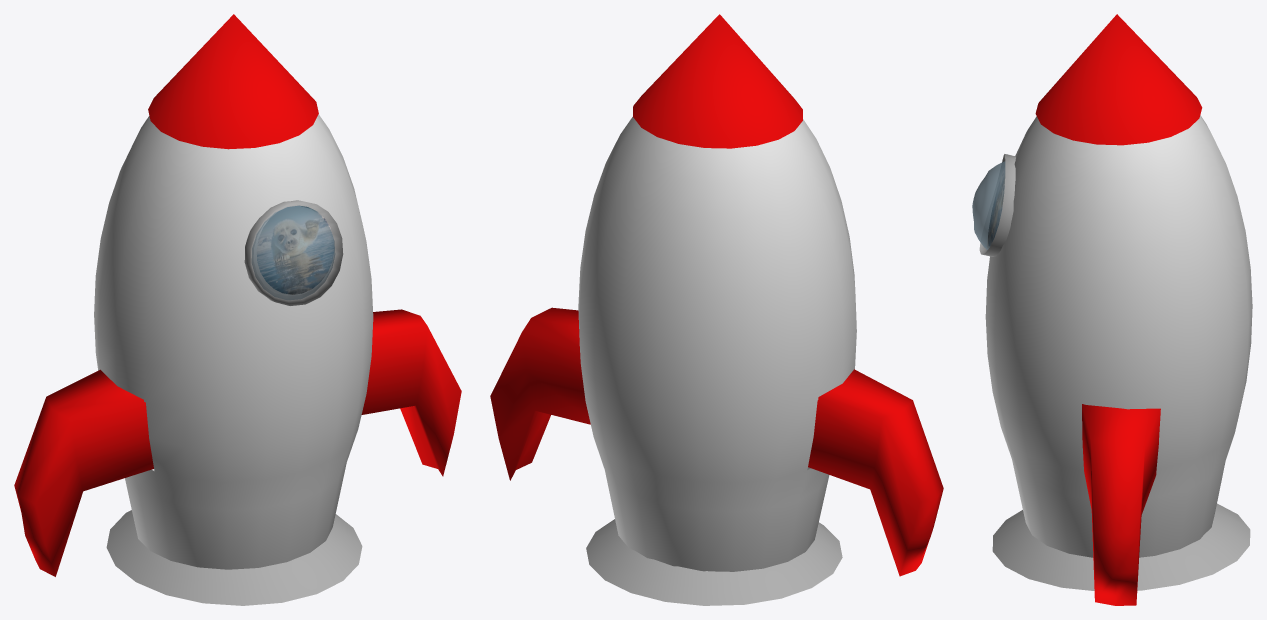
Rendered from RocketShip.fbx.
The picture shows the model from 3 angles, left to right: view 1: azimuth 30°, elevation 25°; view 2: azimuth 150°, elevation 25°; view 3: azimuth 270°, elevation 25°; orthographic projection. The views are drawn at different scales.
Visible parts, largest first — view 1: polySurface1, polySurface6, pCone1, pCylinder1, polySurface3, pSphere2, pDisc1, pCylinder2; view 2: polySurface1, polySurface6, pCone1, polySurface3, pCylinder1; view 3: polySurface1, pCone1, polySurface3, pCylinder1, pSphere2, pCylinder2, pDisc1.
Boxes of the visible parts, x1=… form: polySurface1: x1=94, y1=114, x2=373, y2=569; polySurface6: x1=14, y1=369, x2=153, y2=576; pCone1: x1=148, y1=14, x2=318, y2=149; pCylinder1: x1=106, y1=510, x2=362, y2=605; polySurface3: x1=361, y1=309, x2=461, y2=476; pSphere2: x1=251, y1=205, x2=335, y2=300; pDisc1: x1=257, y1=205, x2=333, y2=294; pCylinder2: x1=244, y1=200, x2=343, y2=305; polySurface1: x1=578, y1=117, x2=856, y2=571; polySurface6: x1=808, y1=369, x2=943, y2=576; pCone1: x1=633, y1=14, x2=802, y2=148; polySurface3: x1=490, y1=307, x2=590, y2=480; pCylinder1: x1=586, y1=519, x2=842, y2=605; polySurface1: x1=985, y1=115, x2=1252, y2=557; pCone1: x1=1035, y1=14, x2=1202, y2=145; polySurface3: x1=1082, y1=404, x2=1160, y2=605; pCylinder1: x1=992, y1=503, x2=1250, y2=590; pSphere2: x1=972, y1=161, x2=1005, y2=249; pCylinder2: x1=979, y1=154, x2=1015, y2=256; pDisc1: x1=988, y1=168, x2=1004, y2=245.
Size of the model in its own units: 0.8648 by 1.02 by 0.488.
5 materials, 1 textured.
